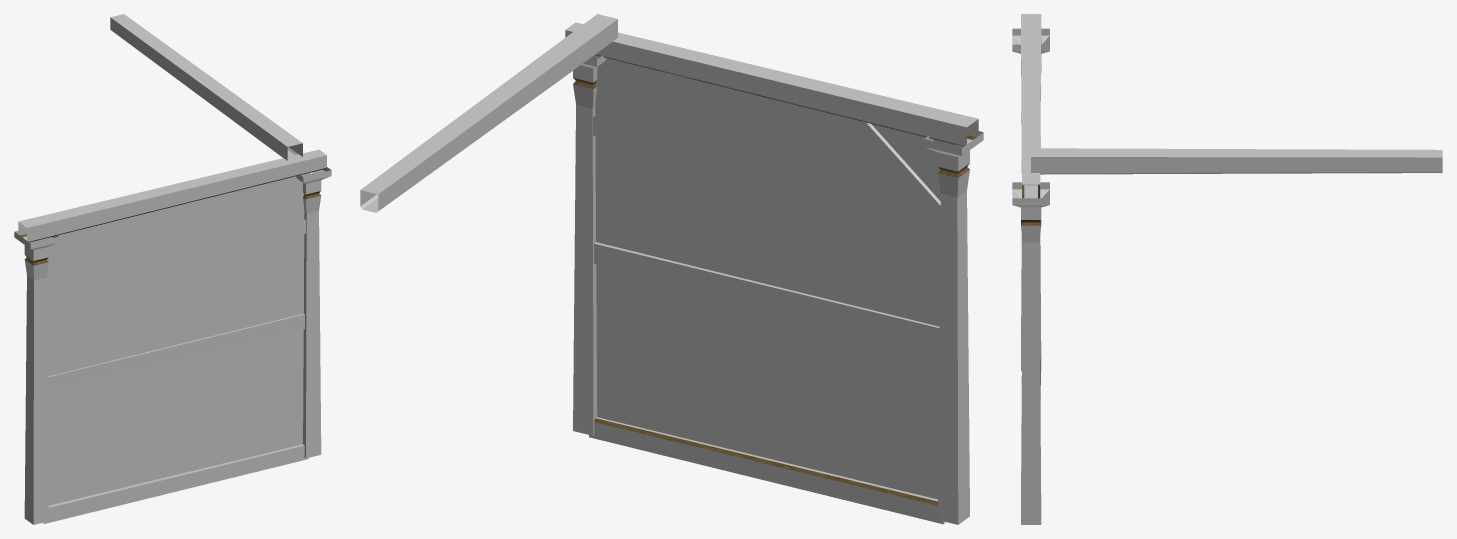
Rendered from WoodenWall.fbx.
3 views of the same model, side by side, from view 1: azimuth 30°, elevation 25°; view 2: azimuth 150°, elevation 25°; view 3: azimuth 270°, elevation 25° (orthographic). The views are drawn at different scales.
Visible parts, largest first — view 1: Cube.006, Cube.003, Cube.002, Cube.010, Cube.001; view 2: Cube.006, Cube.002, Cube.003, Cube.010, Cube.001; view 3: Cube.010, Cube.001, Cube.003, Cube.002.
Part boxes in pixels (left/top/right/bottom): Cube.006: left=35, top=172, right=310, bottom=523; Cube.003: left=18, top=149, right=326, bottom=242; Cube.002: left=14, top=231, right=58, bottom=524; Cube.010: left=110, top=14, right=302, bottom=160; Cube.001: left=296, top=167, right=331, bottom=458; Cube.006: left=589, top=55, right=955, bottom=524; Cube.002: left=924, top=131, right=983, bottom=524; Cube.003: left=565, top=22, right=978, bottom=146; Cube.010: left=360, top=14, right=617, bottom=212; Cube.001: left=573, top=55, right=605, bottom=435; Cube.010: left=1031, top=148, right=1442, bottom=174; Cube.001: left=1012, top=182, right=1049, bottom=524; Cube.003: left=1021, top=14, right=1041, bottom=198; Cube.002: left=1012, top=28, right=1049, bottom=371.
Bounding box in the file's own units: 58.21 × 58.09 × 62.44.
